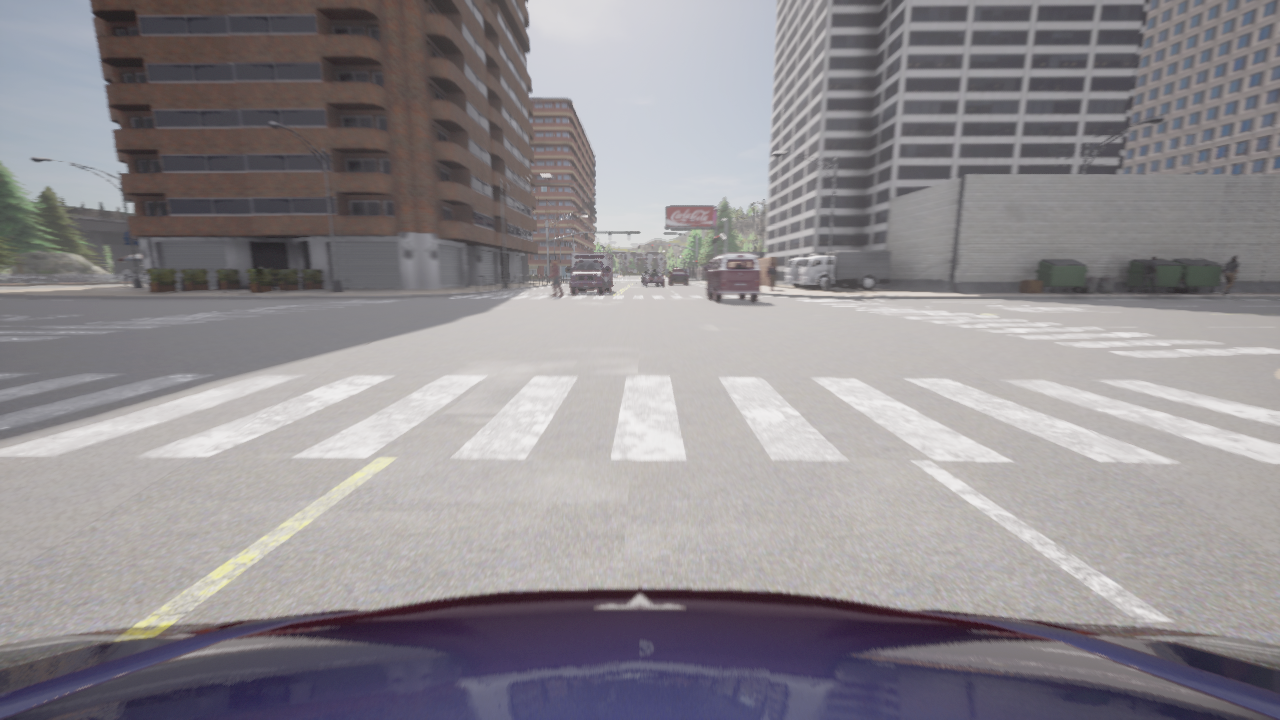cyclist: (0, 588, 1279, 719), (798, 251, 890, 289), (704, 253, 760, 301), (784, 253, 847, 288), (566, 253, 612, 293), (642, 269, 663, 286), (669, 270, 687, 284)
pedestrian: (1137, 255, 1160, 294), (1220, 256, 1239, 294), (549, 260, 563, 296), (767, 262, 776, 289)
